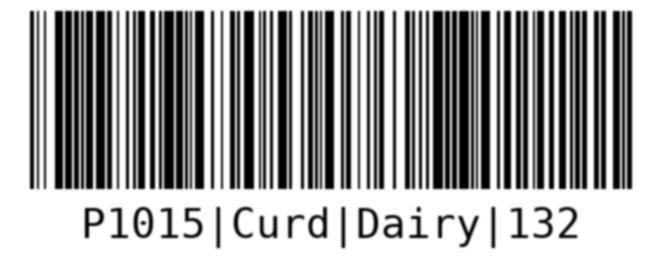milk: (26, 6, 637, 268)
